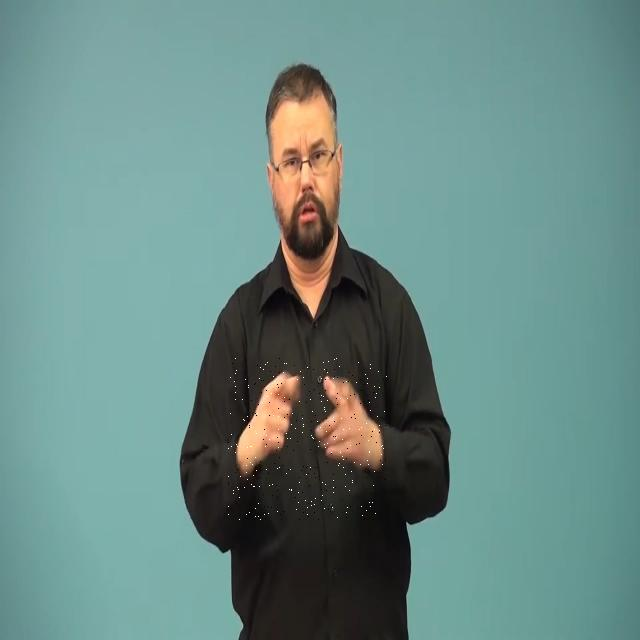credit card: (228, 358, 387, 520)
